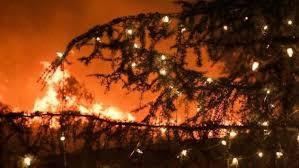fire: (29, 63, 137, 125)
